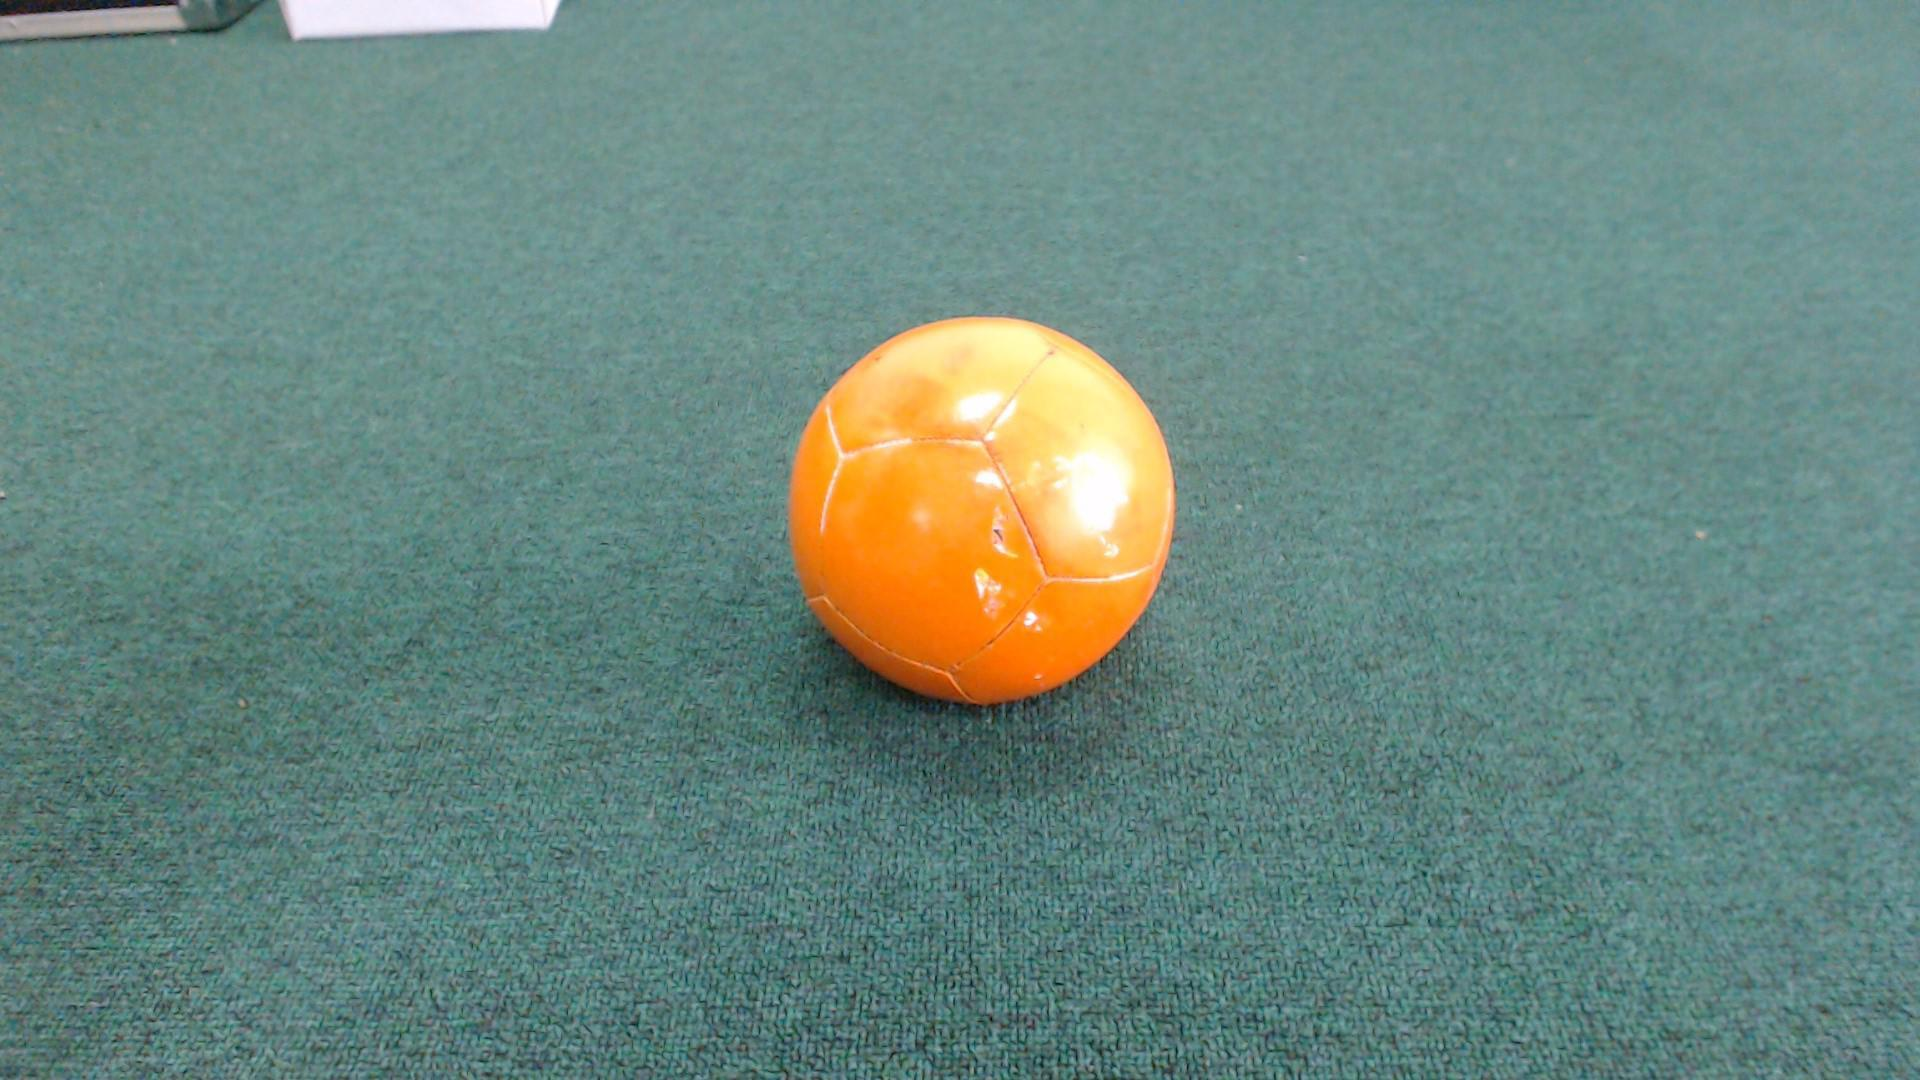bola: (778, 301, 1183, 704)
